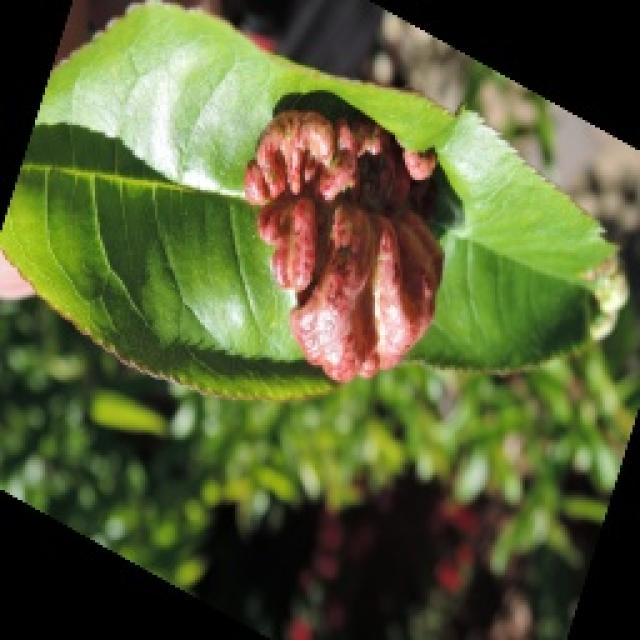peach_leaf_curl: (0, 0, 622, 402), (240, 100, 445, 382)
